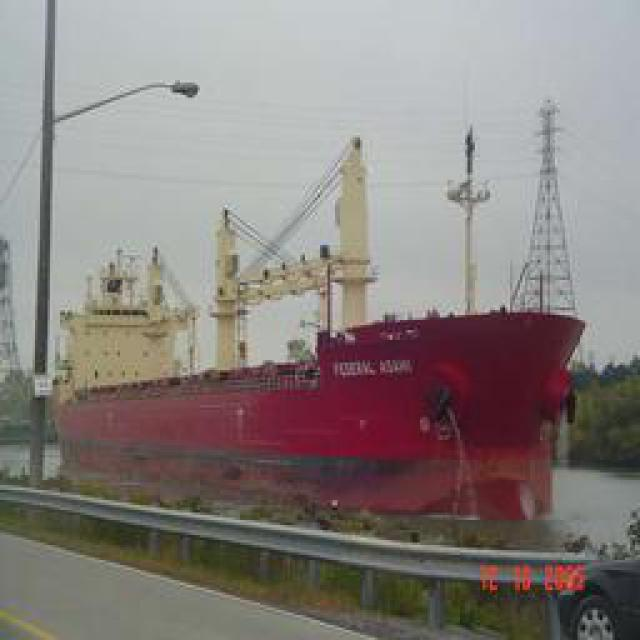Ship: (52, 137, 592, 533)
